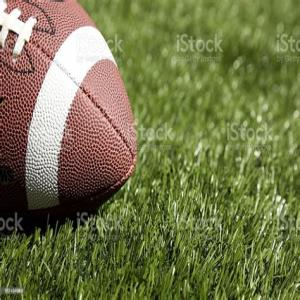Rugby: (0, 0, 136, 226)
